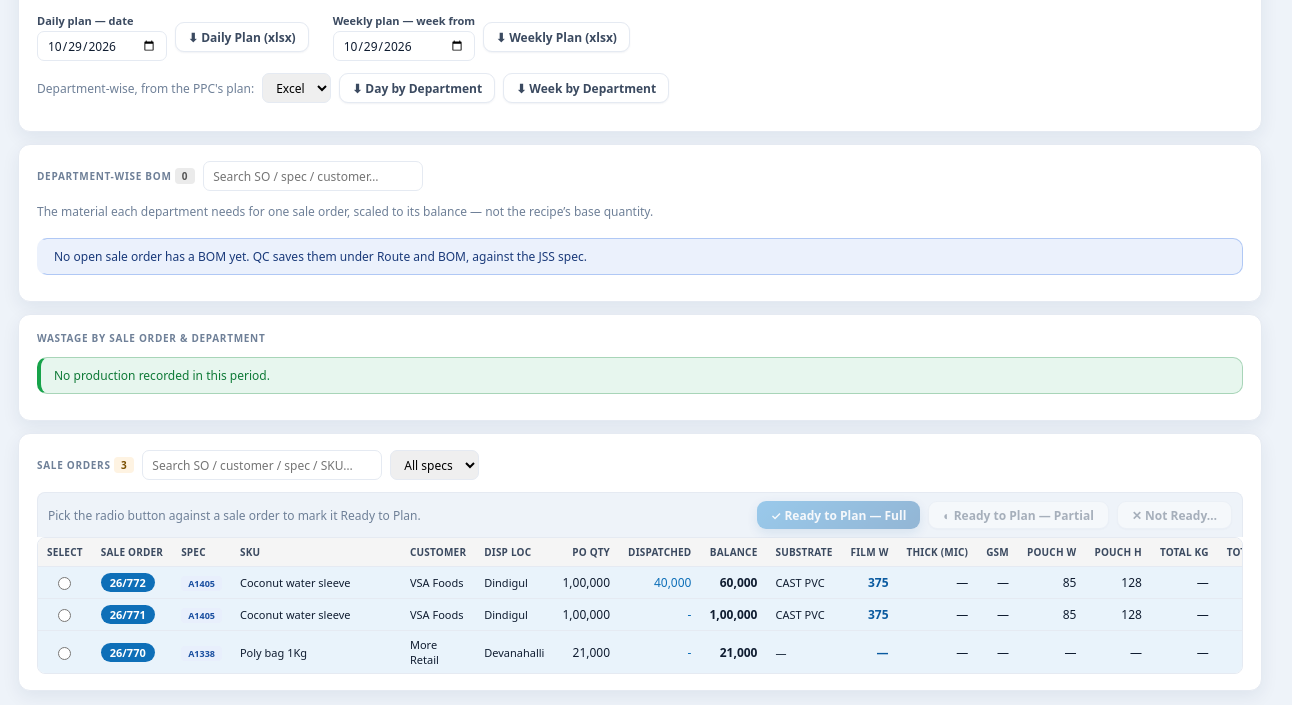
Scenario: PLAN — the material a picked order needs › says plainly when the spec has no BOM instead of showing an empty picker
(page scrolled)
Expected: the text "Sale orders 3" is shown, [37,457,134,473]
Click the radio button named "Select 26/770": (65, 653) [58,647,71,660]
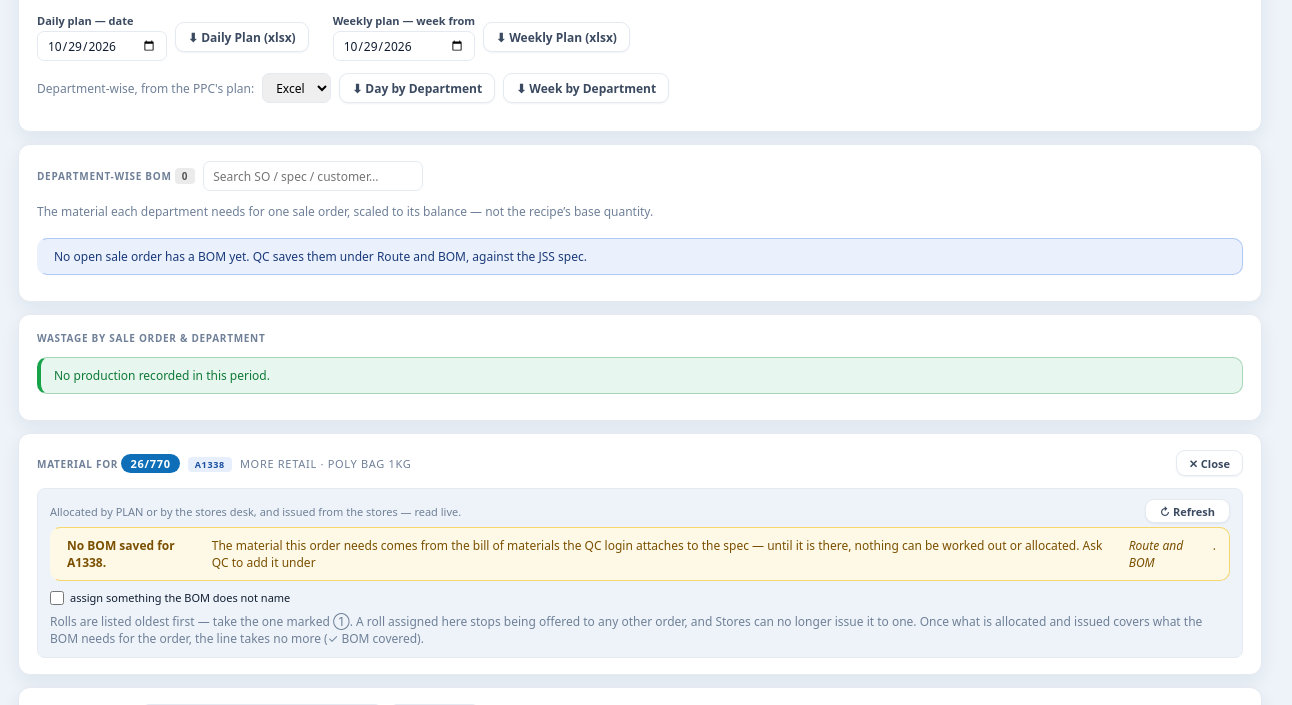
Expected: the text "No BOM saved for A1338." is shown, [67,537,175,571]
Expected: the text "Ask QC to add it under" is shown, [212,537,1102,571]
